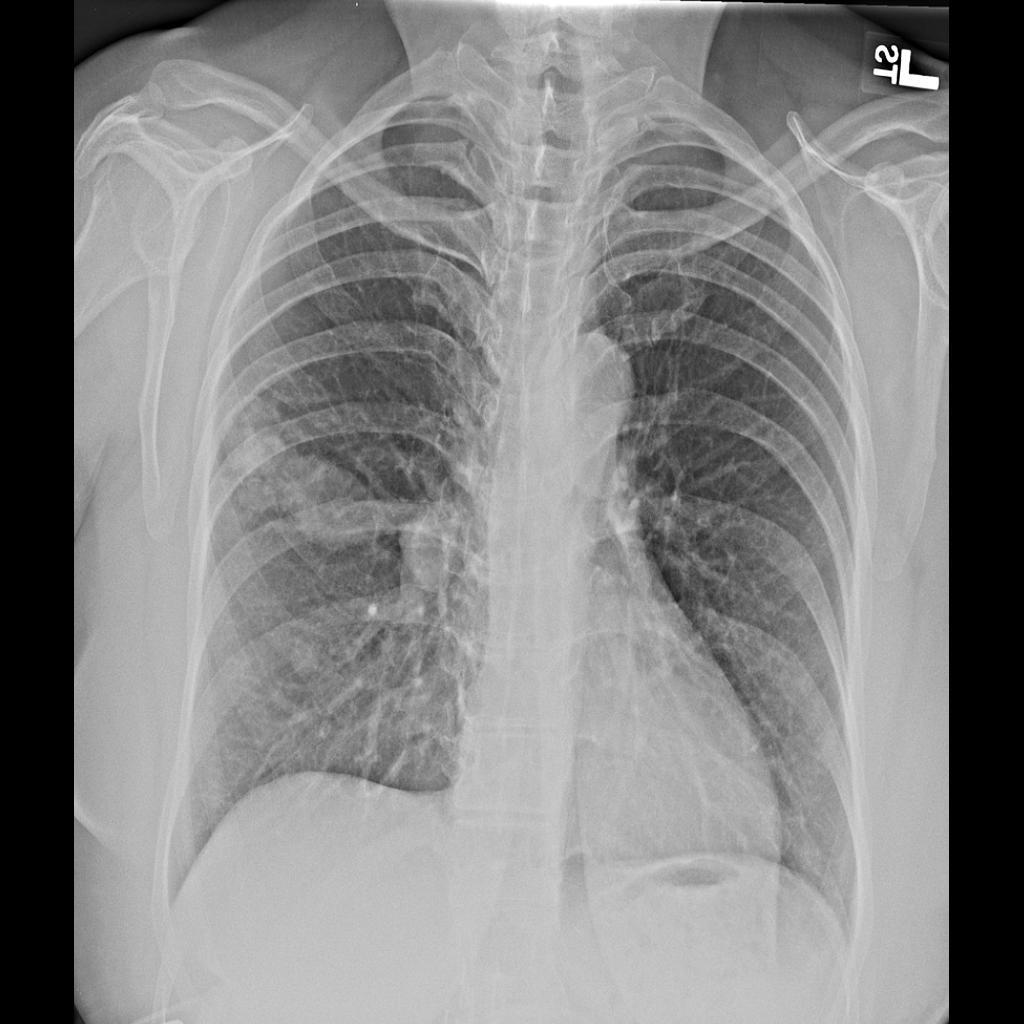Nodule: (290, 464, 378, 549), (220, 403, 289, 483), (412, 517, 459, 593)
